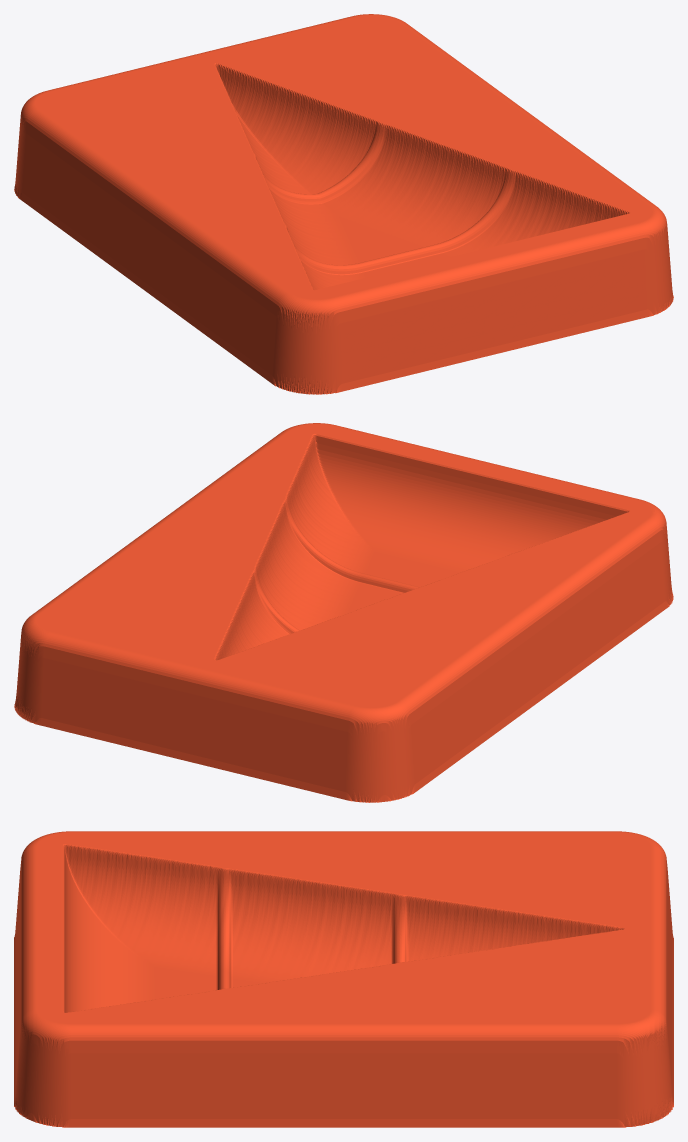
Rendered from mold.glb.
3 renders of one model, top to bottom at view 1: azimuth 30°, elevation 25°; view 2: azimuth 150°, elevation 25°; view 3: azimuth 270°, elevation 25°, orthographic. The views are drawn at different scales.
Visible parts, largest first — view 1: geometry_0; view 2: geometry_0; view 3: geometry_0.
Part boxes in pixels (box(x1,y1,x2,y2)): geometry_0: box(14, 14, 673, 394); geometry_0: box(14, 423, 673, 802); geometry_0: box(14, 831, 673, 1127).
Bounding box in the file's own units: 0.0792 × 0.0165 × 0.105.
